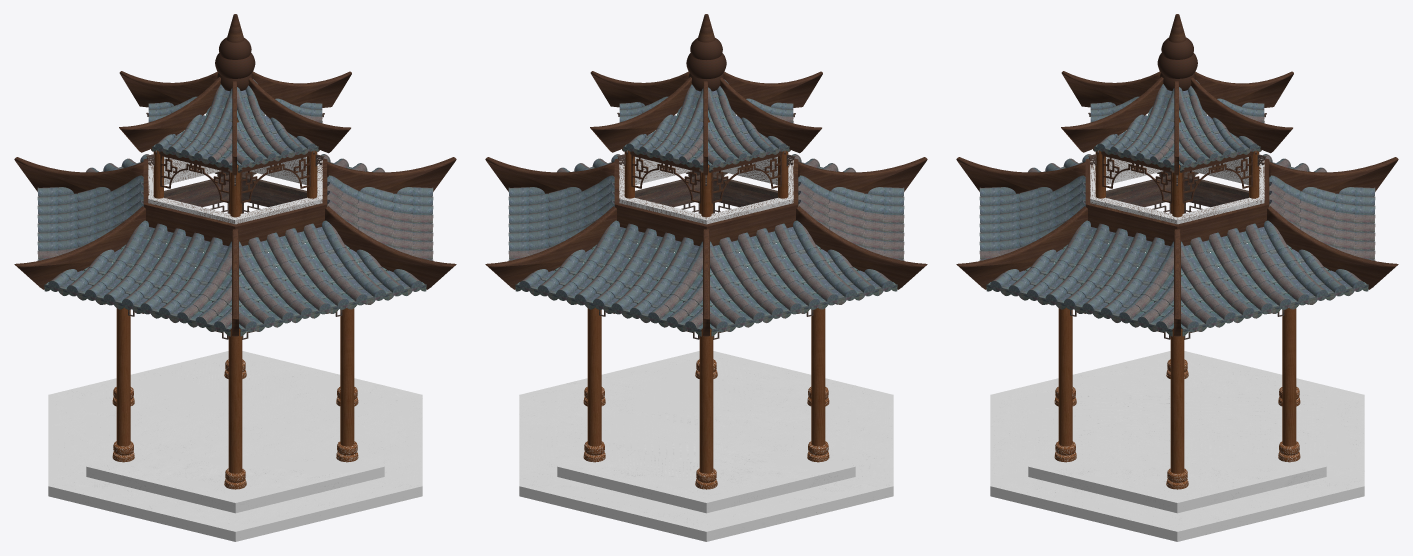
Rendered from Pavilion.fbx.
3 views of the same model, side by side, from view 1: azimuth 30°, elevation 25°; view 2: azimuth 150°, elevation 25°; view 3: azimuth 270°, elevation 25° (orthographic).
Visible parts, largest first — view 1: Material3, Material2.007, Material3.001, Material2.005, Material2.004, Material2.008, Material2.003, Material2.002, Material2.006, Material2, Material2.009, Material2.010 (+2 smaller); view 2: Material3, Material2.007, Material3.001, Material2.002, Material2.008, Material2.001, Material2, Material2.005, Material2.006, Material2.003, Material2.009, Material2.004 (+1 smaller); view 3: Material3, Material2.007, Material3.001, Material2.004, Material2, Material2.005, Material2.008, Material2.001, Material2.003, Material2.002, Material2.006, Material2.010 (+1 smaller).
Boxes of the visible parts, x1,y1,x2,y2 form: Material3: (48, 351, 422, 541); Material2.007: (14, 37, 456, 335); Material3.001: (48, 140, 422, 539); Material2.005: (37, 182, 433, 336); Material2.004: (62, 154, 433, 336); Material2.008: (112, 118, 358, 489); Material2.003: (37, 79, 433, 318); Material2.002: (37, 85, 318, 260); Material2.006: (37, 182, 143, 249); Material2: (137, 94, 384, 172); Material2.009: (104, 112, 368, 339); Material2.010: (102, 150, 318, 339); Material3: (519, 351, 893, 541); Material2.007: (485, 38, 927, 335); Material3.001: (519, 140, 893, 541); Material2.002: (515, 107, 897, 331); Material2.008: (583, 118, 829, 489); Material2.001: (570, 86, 789, 336); Material2: (508, 84, 735, 313); Material2.005: (508, 154, 904, 313); Material2.006: (508, 197, 831, 322); Material2.003: (619, 79, 867, 336); Material2.009: (599, 112, 837, 339); Material2.004: (508, 163, 904, 260); Material3: (990, 351, 1364, 541); Material2.007: (956, 37, 1398, 335); Material3.001: (990, 140, 1364, 540); Material2.004: (979, 163, 1294, 331); Material2: (1179, 80, 1375, 336); Material2.005: (1004, 154, 1368, 322); Material2.008: (1054, 118, 1300, 489); Material2.001: (1090, 84, 1375, 250); Material2.003: (979, 88, 1375, 336); Material2.002: (1090, 99, 1375, 260); Material2.006: (1192, 158, 1350, 316); Material2.010: (1093, 149, 1310, 339).
Size of the model in its own units: 20595 by 19528 by 17954.
Materials: 7 (6 with a texture image).
